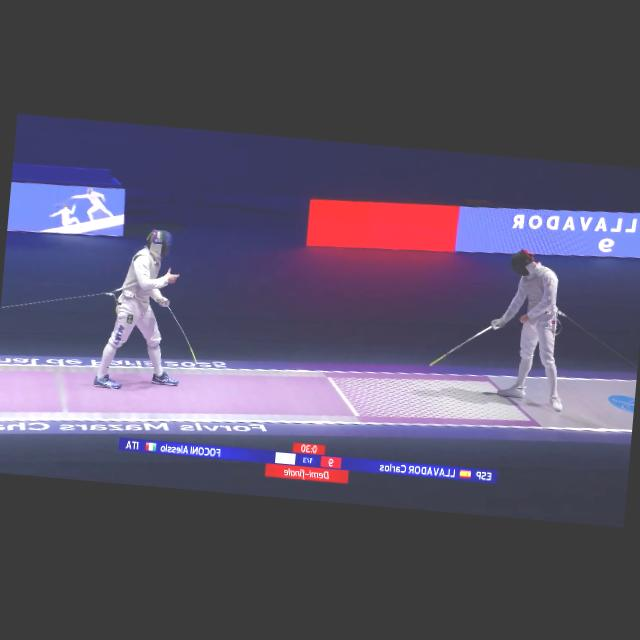blade: (152, 298, 201, 363)
